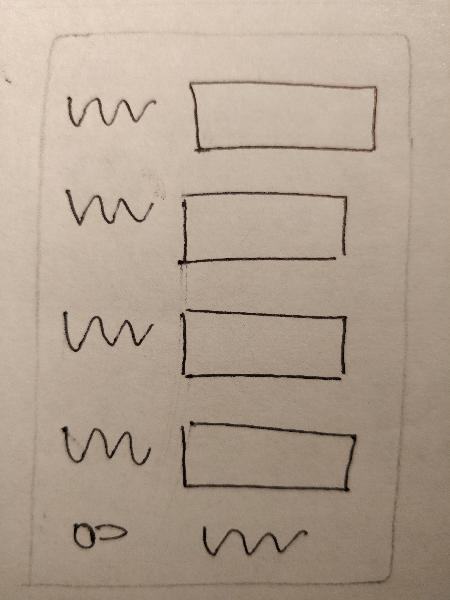switch: (51, 512, 141, 556)
text: (184, 518, 324, 571), (53, 298, 156, 364), (50, 417, 156, 476), (52, 180, 157, 239), (60, 84, 167, 138)
text_input: (178, 69, 389, 160), (172, 298, 361, 397), (170, 413, 364, 508), (174, 185, 357, 276)
